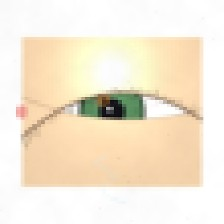foreign_body_visible: (89, 89, 119, 113)
